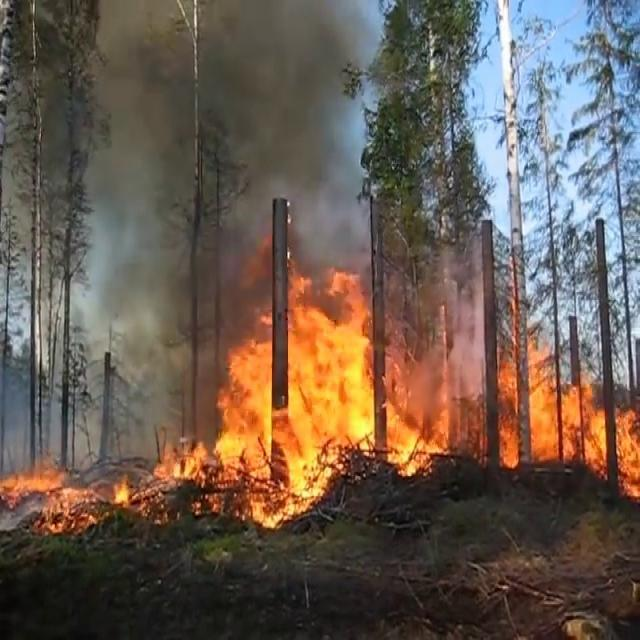Fire: (407, 341, 640, 522), (278, 262, 378, 524), (11, 452, 247, 529), (220, 320, 302, 540), (618, 411, 640, 498)
Smoke: (110, 13, 347, 224), (92, 215, 209, 398)
